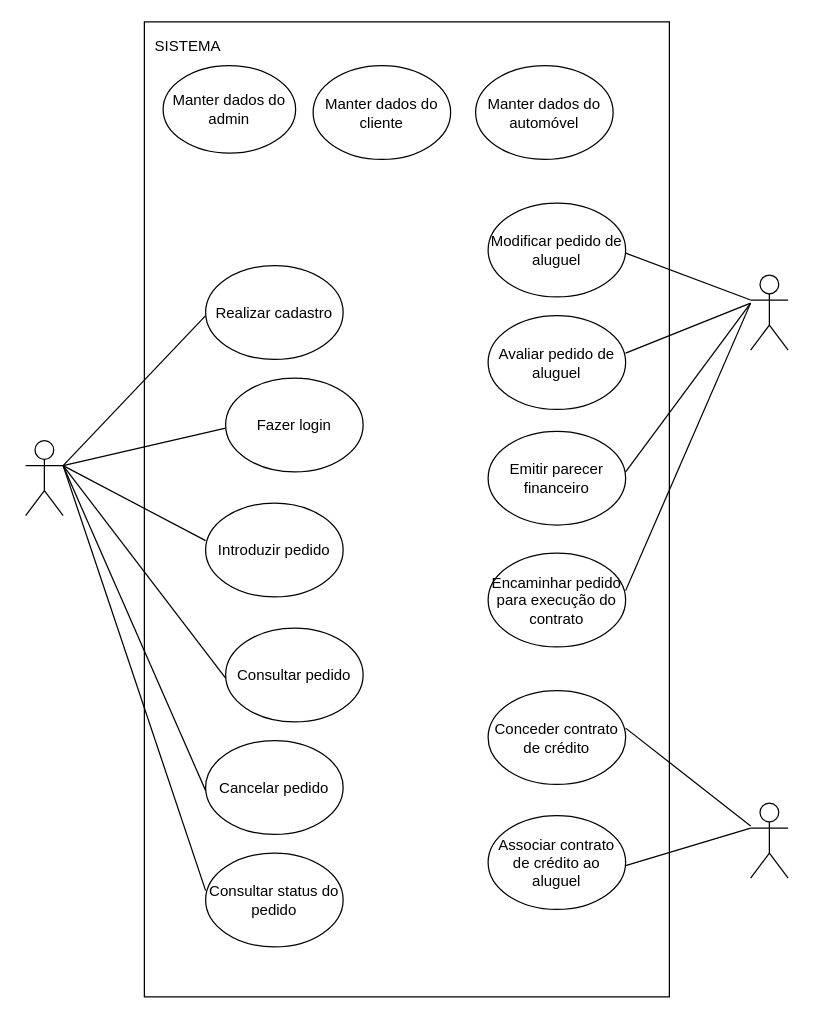
Image size: 821x1019. Some labels were removed from this diagram. The shapes that lost their labels are listed below. From the top down, each one's box as (x1, y1, x2, y2) in pixels, then its label:
(749, 274, 788, 350): Empresa
(24, 439, 63, 516): Cliente
(749, 802, 788, 878): Banco
